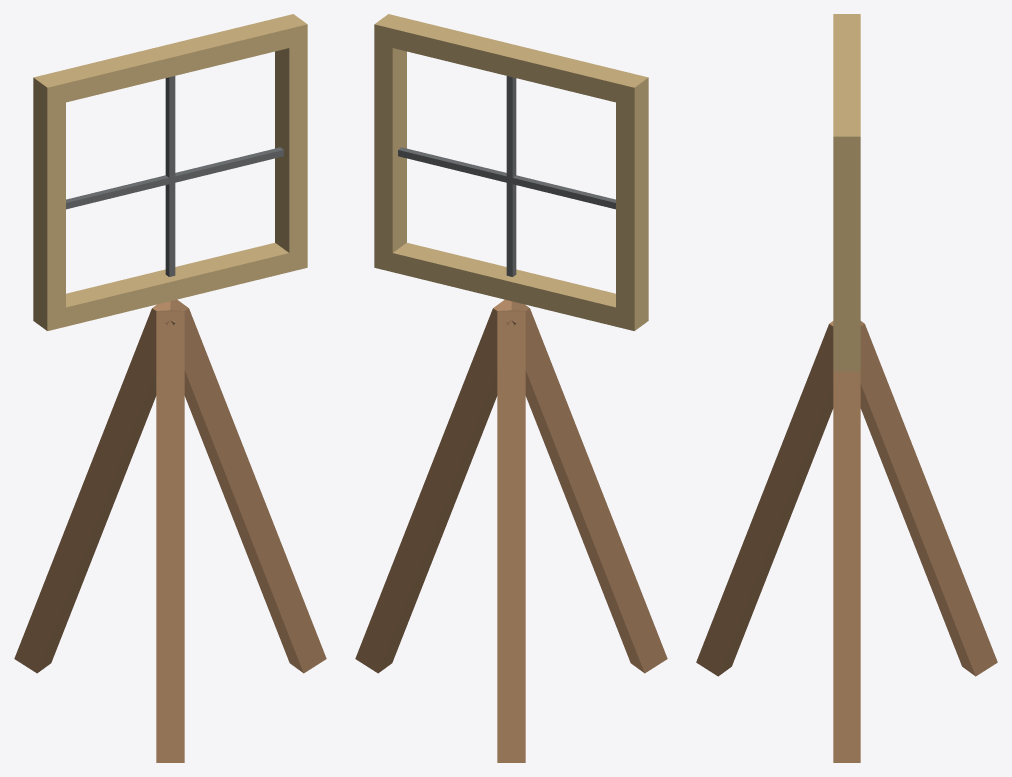
File: tidal-astronomical-sighting-frame__264.glb
3 views of the same model, side by side, from view 1: azimuth 30°, elevation 25°; view 2: azimuth 150°, elevation 25°; view 3: azimuth 270°, elevation 25° (orthographic). The views are drawn at different scales.
Visible parts, largest first — view 1: tidal-observatory-sighting-frame; view 2: tidal-observatory-sighting-frame; view 3: tidal-observatory-sighting-frame.
Boxes of the visible parts, bbox=[...] form: tidal-observatory-sighting-frame: bbox=[14, 14, 326, 762]; tidal-observatory-sighting-frame: bbox=[355, 14, 667, 762]; tidal-observatory-sighting-frame: bbox=[696, 14, 997, 762].
Size of the model in its own units: 0.9125 by 2.02 by 0.8843.
